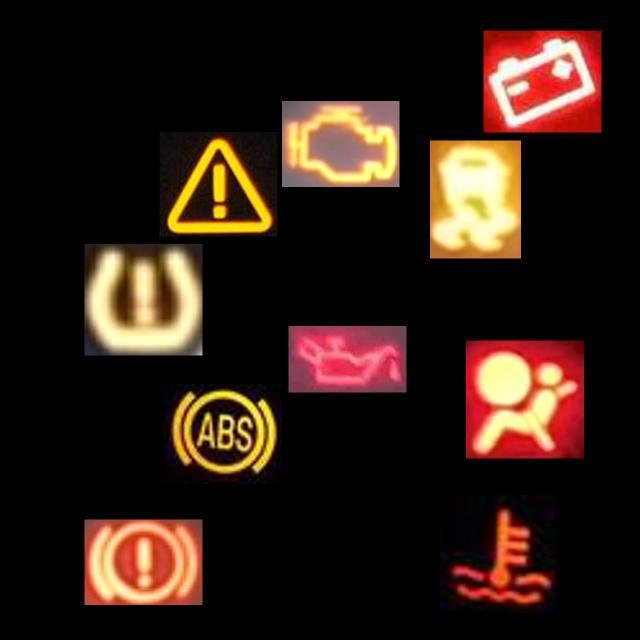Central Warning lamp: (160, 132, 278, 236)
Engine cooling system: (440, 495, 558, 613)
